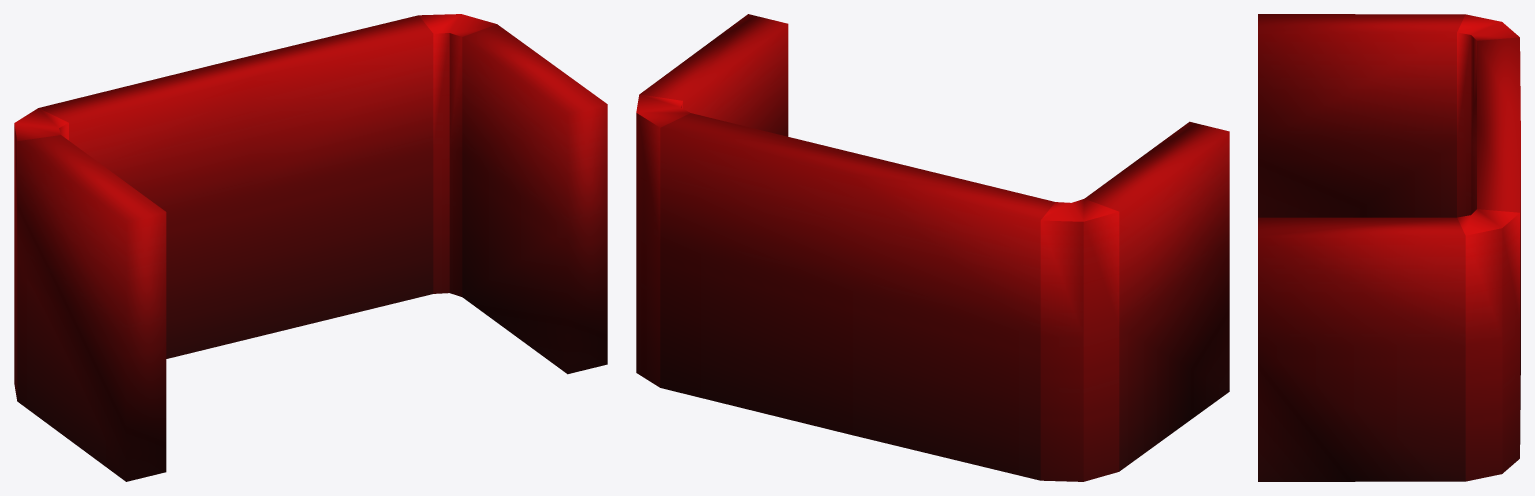
Rendered from MovingWallStopper.fbx.
The picture shows the model from 3 angles, left to right: view 1: azimuth 30°, elevation 25°; view 2: azimuth 150°, elevation 25°; view 3: azimuth 270°, elevation 25°; orthographic projection. The views are drawn at different scales.
Visible parts, largest first — view 1: MovingWallStopper; view 2: MovingWallStopper; view 3: MovingWallStopper.
Boxes of the visible parts, x1,y1,x2,y2 form: MovingWallStopper: [14, 14, 607, 481]; MovingWallStopper: [636, 14, 1229, 481]; MovingWallStopper: [1258, 14, 1520, 481].
Size of the model in its own units: 240 by 124 by 120.
